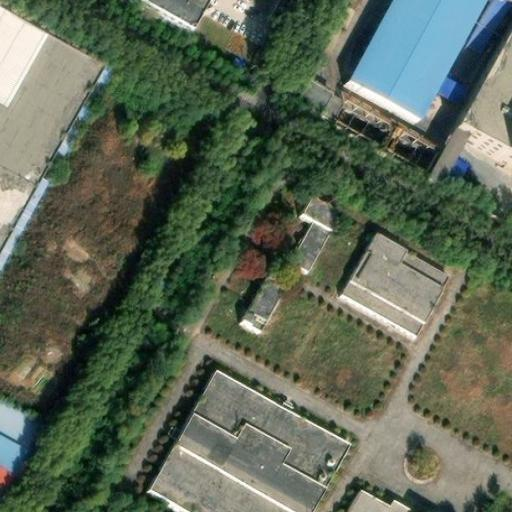building: (153, 371, 351, 512), (343, 235, 453, 338), (462, 41, 512, 158), (289, 197, 340, 269), (240, 264, 290, 329), (455, 1, 504, 67), (243, 207, 293, 255), (341, 485, 409, 512), (297, 73, 334, 108)
